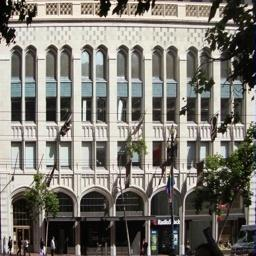building: (8, 0, 256, 256)
